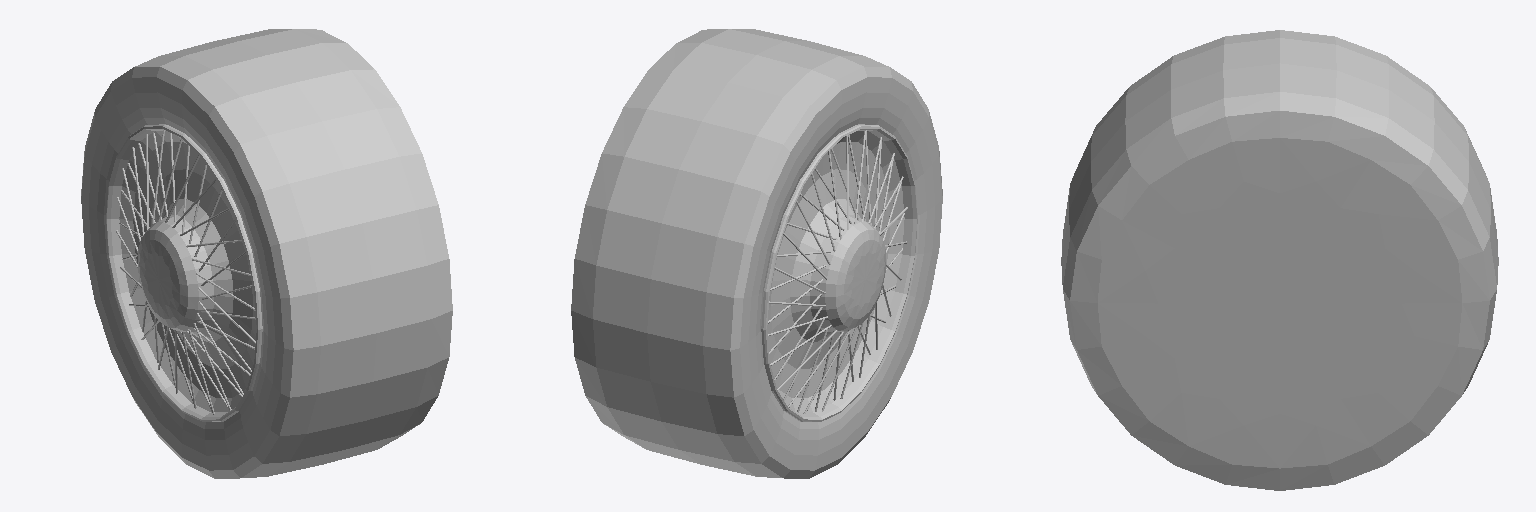
Rendered from al_carpone_model_wheel_right_physx_model.obj.
3 views of the same model, side by side, from view 1: azimuth 30°, elevation 25°; view 2: azimuth 150°, elevation 25°; view 3: azimuth 270°, elevation 25° (orthographic).
Parts seen in each view (by area): view 1: RIGHT_Tire_front_R_Mesh.005; view 2: RIGHT_Tire_front_R_Mesh.005; view 3: RIGHT_Tire_front_R_Mesh.005.
Boxes of the visible parts, <box> form: RIGHT_Tire_front_R_Mesh.005: <box>81,29,452,478</box>; RIGHT_Tire_front_R_Mesh.005: <box>571,29,942,478</box>; RIGHT_Tire_front_R_Mesh.005: <box>1061,30,1498,490</box>.
Bounding box in the file's own units: 0.3812 × 0.7409 × 0.7409.